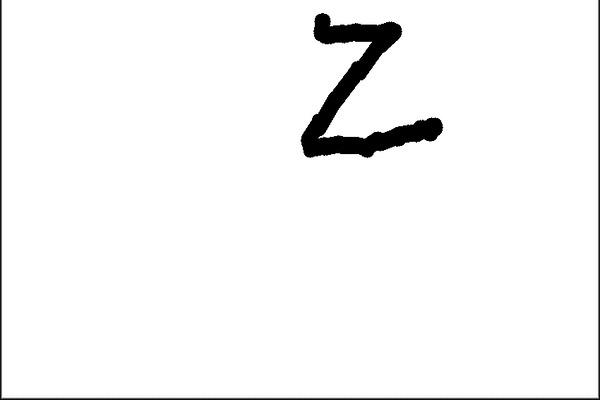Z: (290, 5, 456, 164)
